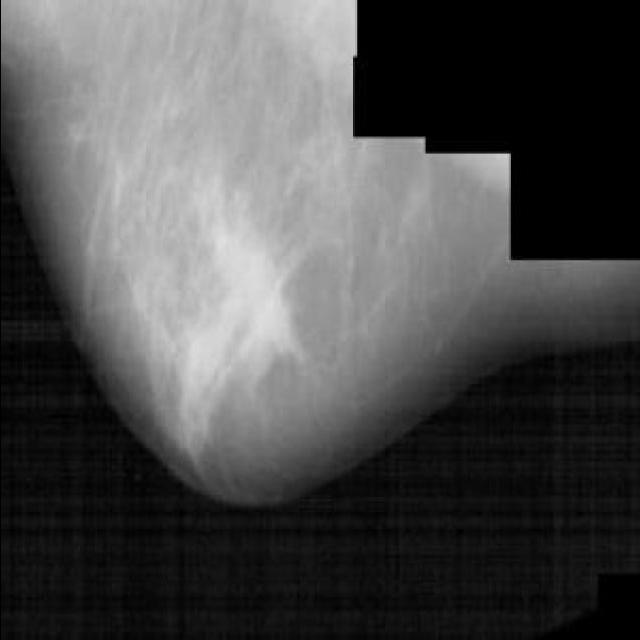tumor: (161, 240, 306, 453)
